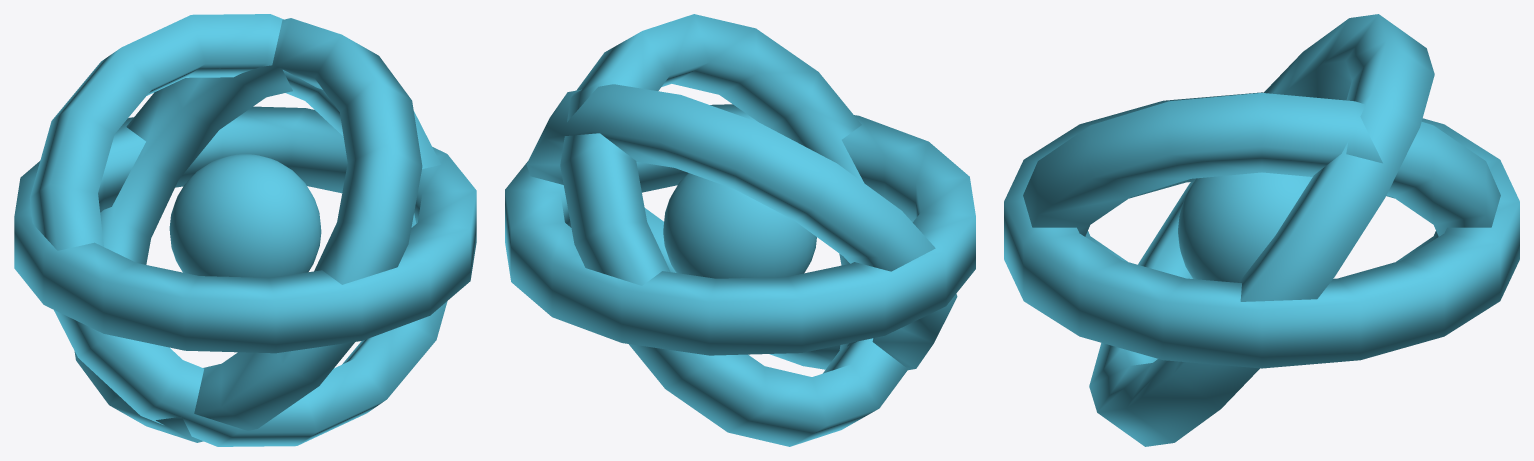
The model's file is react.gltf.
3 renders of one model, left to right at view 1: azimuth 30°, elevation 25°; view 2: azimuth 150°, elevation 25°; view 3: azimuth 270°, elevation 25°, orthographic. The views are drawn at different scales.
Parts seen in each view (by area): view 1: Circle.001, Circle.002, Circle.003, Sphere; view 2: Circle.001, Circle.002, Circle.003, Sphere; view 3: Circle.001, Circle.003, Circle.002, Sphere.
Part boxes in pixels (bbox=[...]): Circle.001: bbox=[14, 106, 476, 353]; Circle.002: bbox=[74, 18, 422, 442]; Circle.003: bbox=[29, 14, 447, 446]; Sphere: bbox=[169, 154, 321, 277]; Circle.001: bbox=[505, 104, 975, 355]; Circle.002: bbox=[560, 14, 908, 446]; Circle.003: bbox=[526, 84, 957, 370]; Sphere: bbox=[663, 173, 816, 278]; Circle.001: bbox=[1004, 92, 1519, 368]; Circle.003: bbox=[1089, 14, 1434, 446]; Circle.002: bbox=[1023, 93, 1500, 261]; Sphere: bbox=[1178, 172, 1312, 282].
Size of the model in its own units: 6.13 by 5.04 by 6.13.
